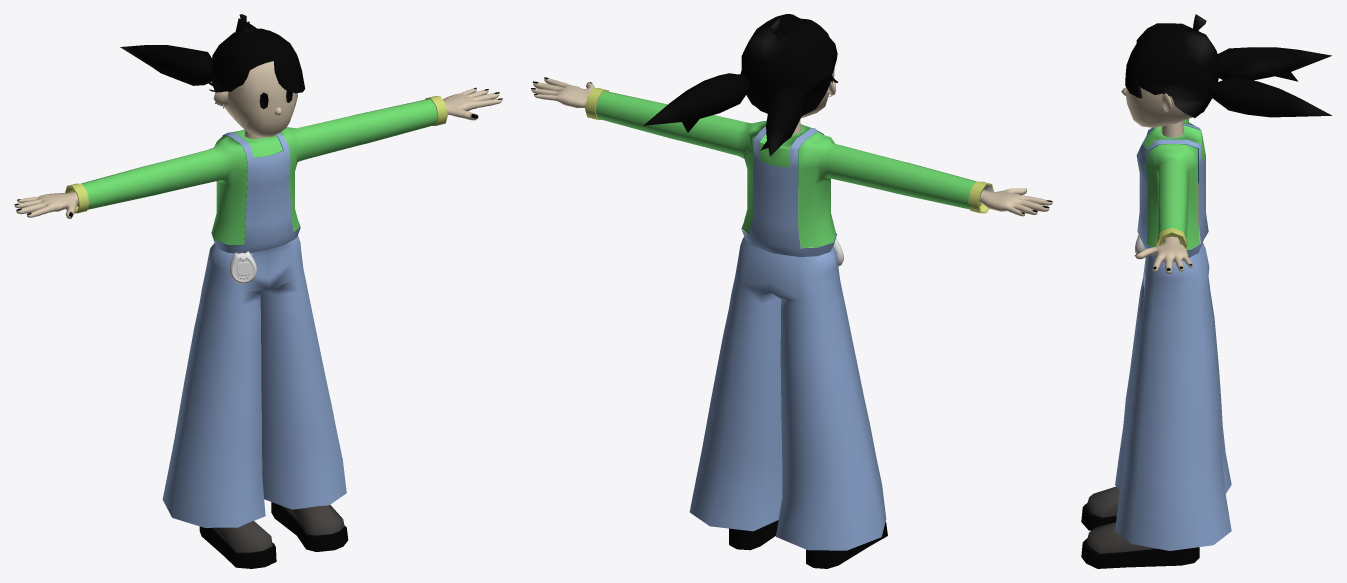
The model's file is ProtagonistTamagotchi.fbx.
The picture shows the model from 3 angles, left to right: view 1: azimuth 30°, elevation 25°; view 2: azimuth 150°, elevation 25°; view 3: azimuth 270°, elevation 25°; orthographic projection. The views are drawn at different scales.
Parts seen in each view (by area): view 1: Protagonista, Tamagotchi_PowerUp; view 2: Protagonista; view 3: Protagonista.
Part boxes in pixels (x1,y1,x2,y2): Protagonista: (14, 14, 502, 568); Tamagotchi_PowerUp: (229, 251, 256, 283); Protagonista: (531, 14, 1052, 568); Protagonista: (1081, 14, 1332, 568).
Size of the model in its own units: 155 by 155 by 67.16.
